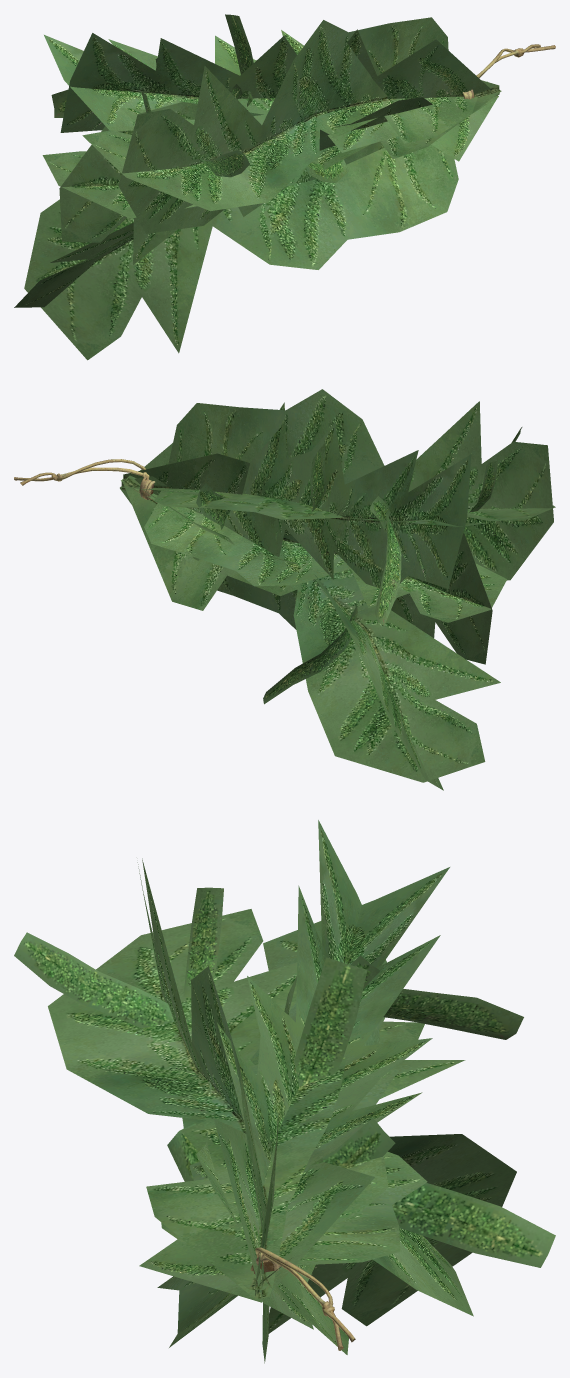
File: sm70_051_greenherbitem01a.fbx
3 views of the same model, one above another, from view 1: azimuth 30°, elevation 25°; view 2: azimuth 150°, elevation 25°; view 3: azimuth 270°, elevation 25° (orthographic). The views are drawn at different scales.
Parts seen in each view (by area): view 1: LOD_1_Group_0_Sub_2__lambert6_Mat__Env_AlphaTest, LOD_1_Group_0_Sub_1__sm70_052_RedHerbItem01A_A_Mat__Env_Defa; view 2: LOD_1_Group_0_Sub_2__lambert6_Mat__Env_AlphaTest, LOD_1_Group_0_Sub_1__sm70_052_RedHerbItem01A_A_Mat__Env_Defa; view 3: LOD_1_Group_0_Sub_2__lambert6_Mat__Env_AlphaTest, LOD_1_Group_0_Sub_1__sm70_052_RedHerbItem01A_A_Mat__Env_Defa.
Part boxes in pixels (x1,y1,x2,y2): LOD_1_Group_0_Sub_2__lambert6_Mat__Env_AlphaTest: [14, 14, 501, 360]; LOD_1_Group_0_Sub_1__sm70_052_RedHerbItem01A_A_Mat__Env_Defa: [462, 44, 555, 99]; LOD_1_Group_0_Sub_2__lambert6_Mat__Env_AlphaTest: [120, 389, 555, 790]; LOD_1_Group_0_Sub_1__sm70_052_RedHerbItem01A_A_Mat__Env_Defa: [14, 459, 155, 499]; LOD_1_Group_0_Sub_2__lambert6_Mat__Env_AlphaTest: [14, 820, 555, 1363]; LOD_1_Group_0_Sub_1__sm70_052_RedHerbItem01A_A_Mat__Env_Defa: [250, 1247, 355, 1350].
Size of the model in its own units: 0.5554 by 0.3521 by 0.3466.
